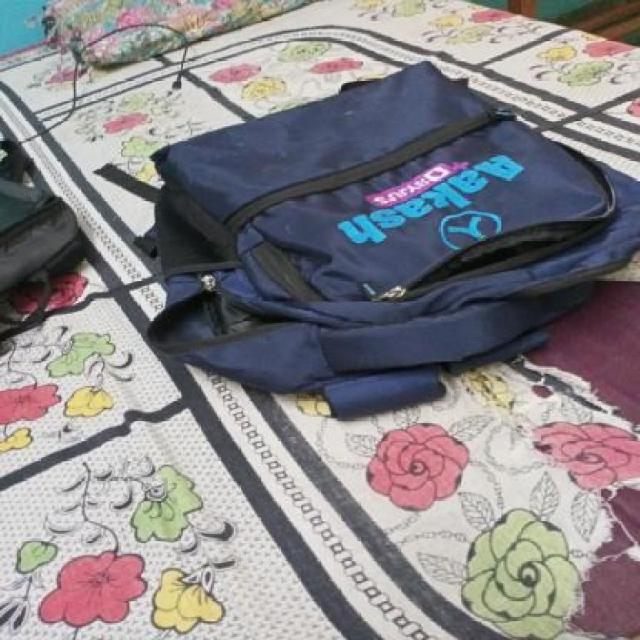backpack: (129, 54, 640, 432)
